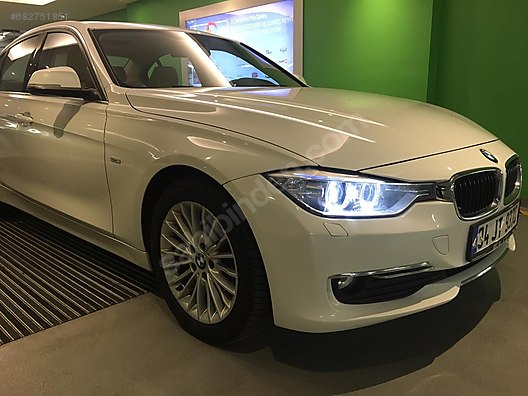bmw: (1, 19, 525, 356)
